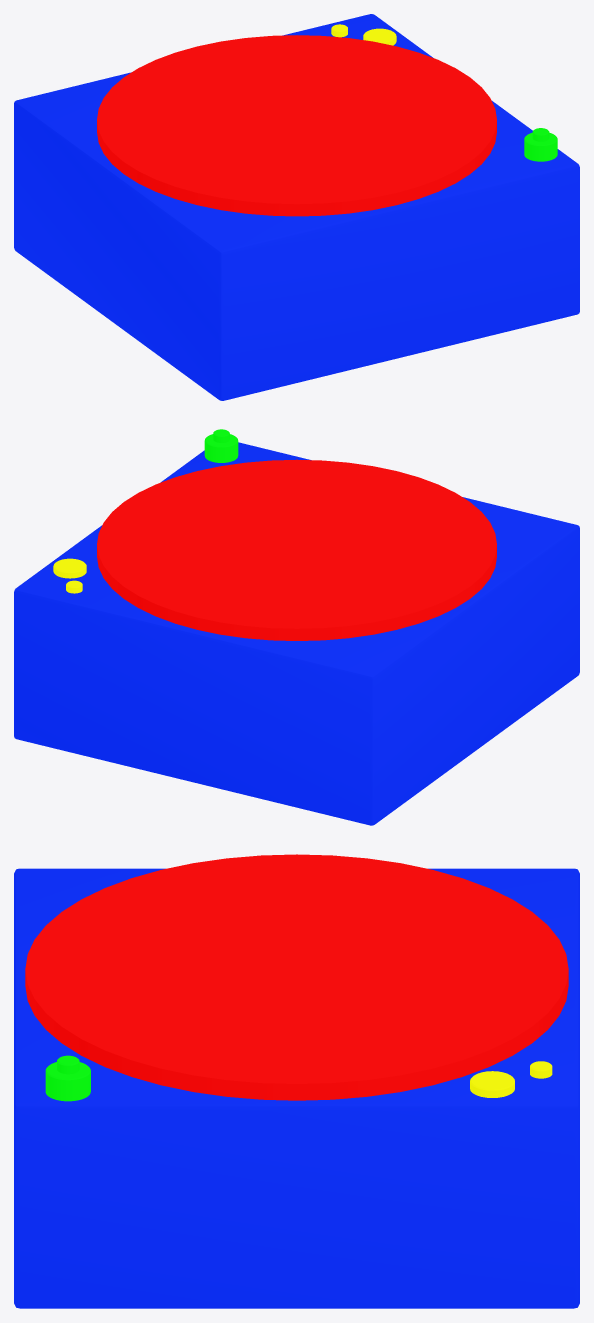
The model's file is Plattenspieler.fbx.
3 renders of one model, top to bottom at view 1: azimuth 30°, elevation 25°; view 2: azimuth 150°, elevation 25°; view 3: azimuth 270°, elevation 25°, orthographic. The views are drawn at different scales.
Parts seen in each view (by area): view 1: Plattenspieler_Export; view 2: Plattenspieler_Export; view 3: Plattenspieler_Export.
Boxes of the visible parts, box(x1,y1,x2,y2) form: Plattenspieler_Export: box(14, 14, 579, 400); Plattenspieler_Export: box(14, 429, 579, 825); Plattenspieler_Export: box(14, 854, 579, 1308).
Size of the model in its own units: 50 by 23.1 by 50.
